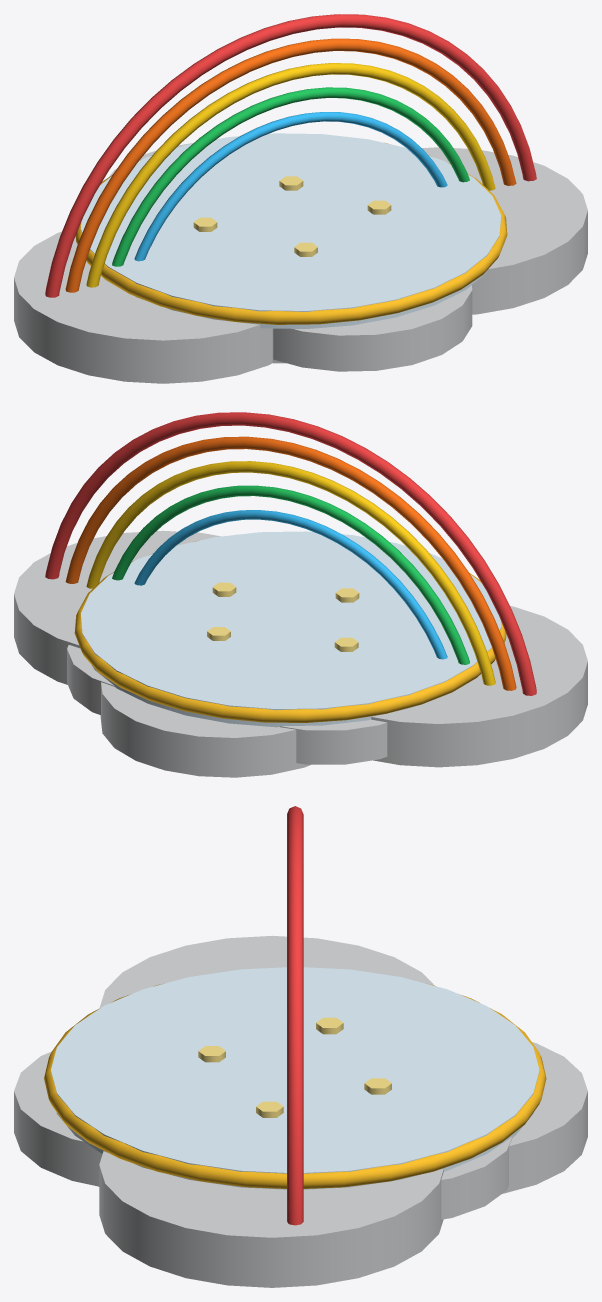
Rendered from toy_sky_cloud_island.glb.
3 views of the same model, one above another, from view 1: azimuth 30°, elevation 25°; view 2: azimuth 150°, elevation 25°; view 3: azimuth 270°, elevation 25° (orthographic). The views are drawn at different scales.
Visible parts, largest first — view 1: solid_8, solid_2, solid_3, solid_10, solid_5, solid_11, solid_12, solid_9, solid_13, solid_14; view 2: solid_8, solid_2, solid_4, solid_10, solid_11, solid_3, solid_12, solid_9, solid_13, solid_14, solid_6, solid_7; view 3: solid_8, solid_3, solid_9, solid_2, solid_4, solid_10, solid_5, solid_7.
Part boxes in pixels (x1,y1,x2,y2): solid_8: [80, 133, 501, 328]; solid_2: [14, 231, 272, 383]; solid_3: [422, 147, 587, 314]; solid_10: [45, 14, 536, 297]; solid_5: [273, 285, 472, 371]; solid_11: [65, 38, 516, 292]; solid_12: [86, 63, 495, 287]; solid_9: [75, 142, 507, 324]; solid_13: [112, 87, 469, 266]; solid_14: [134, 112, 447, 261]; solid_8: [80, 531, 501, 727]; solid_2: [371, 606, 587, 767]; solid_4: [100, 682, 310, 777]; solid_10: [45, 412, 536, 695]; solid_11: [65, 436, 516, 690]; solid_3: [14, 530, 221, 684]; solid_12: [86, 461, 495, 685]; solid_9: [74, 540, 506, 722]; solid_13: [112, 485, 469, 664]; solid_14: [134, 510, 447, 659]; solid_6: [279, 719, 387, 764]; solid_7: [67, 645, 114, 715]; solid_8: [51, 967, 539, 1189]; solid_3: [99, 1151, 443, 1287]; solid_9: [44, 984, 546, 1188]; solid_2: [99, 935, 434, 1008]; solid_4: [502, 1042, 587, 1193]; solid_10: [287, 806, 303, 1225]; solid_5: [14, 1051, 102, 1186]; solid_7: [441, 1137, 512, 1219].
Size of the model in its own units: 6.2 by 3.05 by 4.98.
